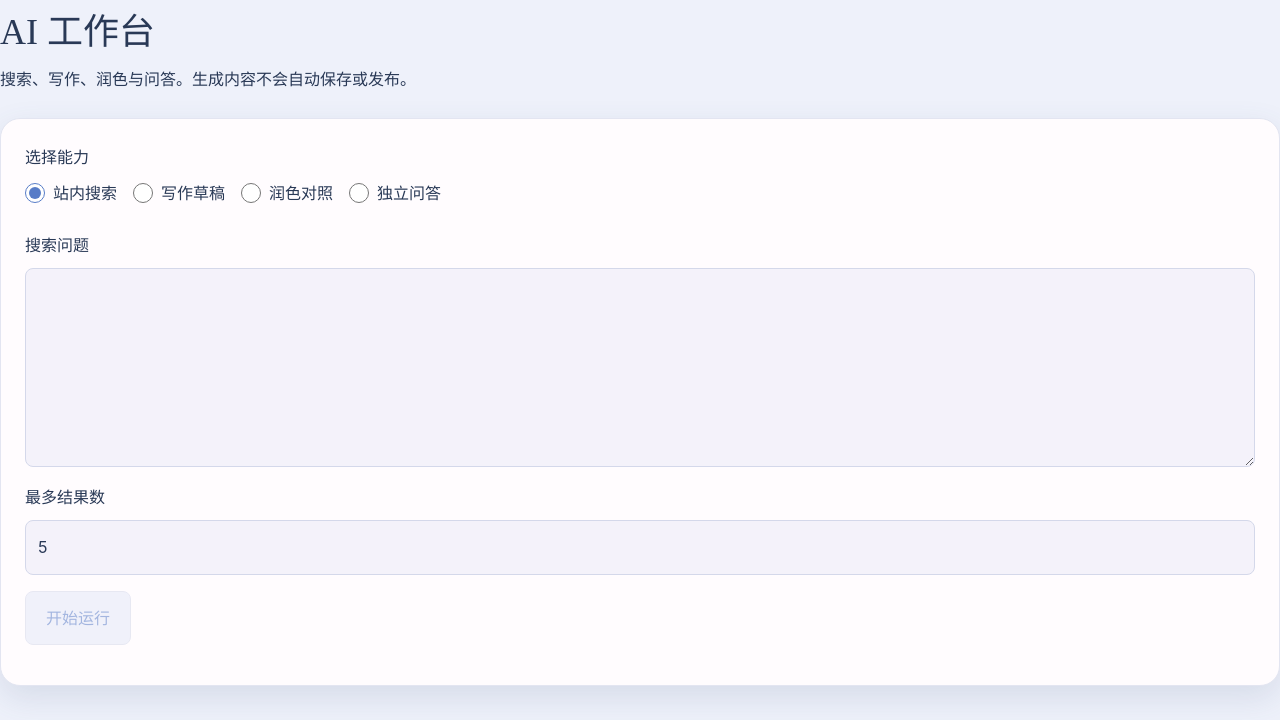
Scenario: AI workspace operation recovery › 429 keeps input, disables resubmit until deadline, and never creates automatically
The width and height of the screenshot is (1280, 720).
Type "原问题" into the text box labelled "搜索问题" at (640, 368), box [25, 268, 1255, 467]
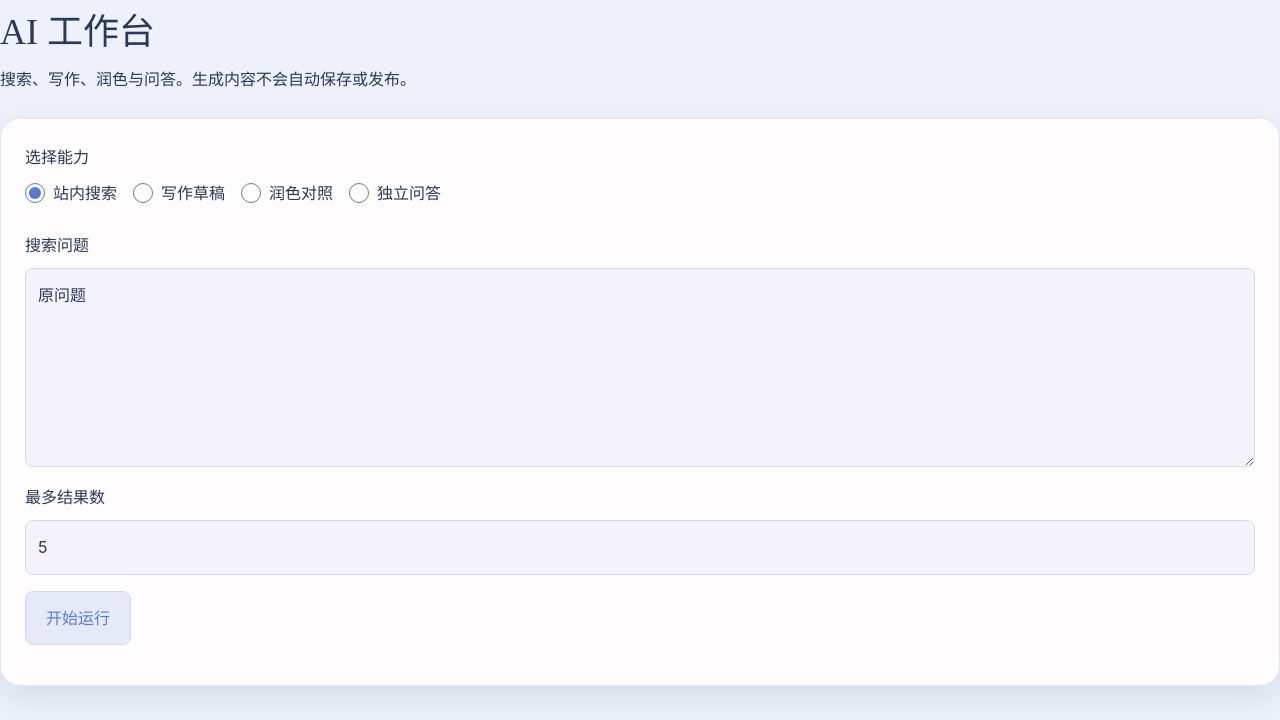
Submit the form
(page scrolled)
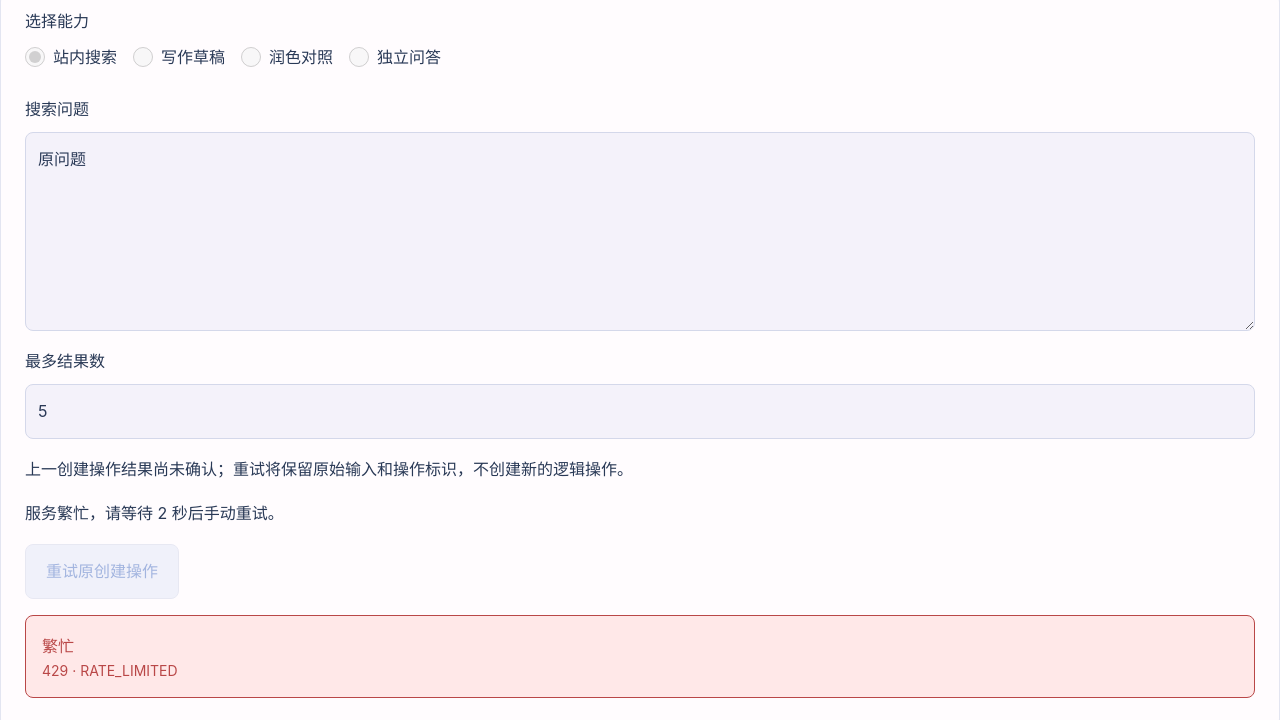
Check: the submit button is disabled, box [25, 544, 179, 599]
Submit the form
Wait 2500 ms
(page scrolled)
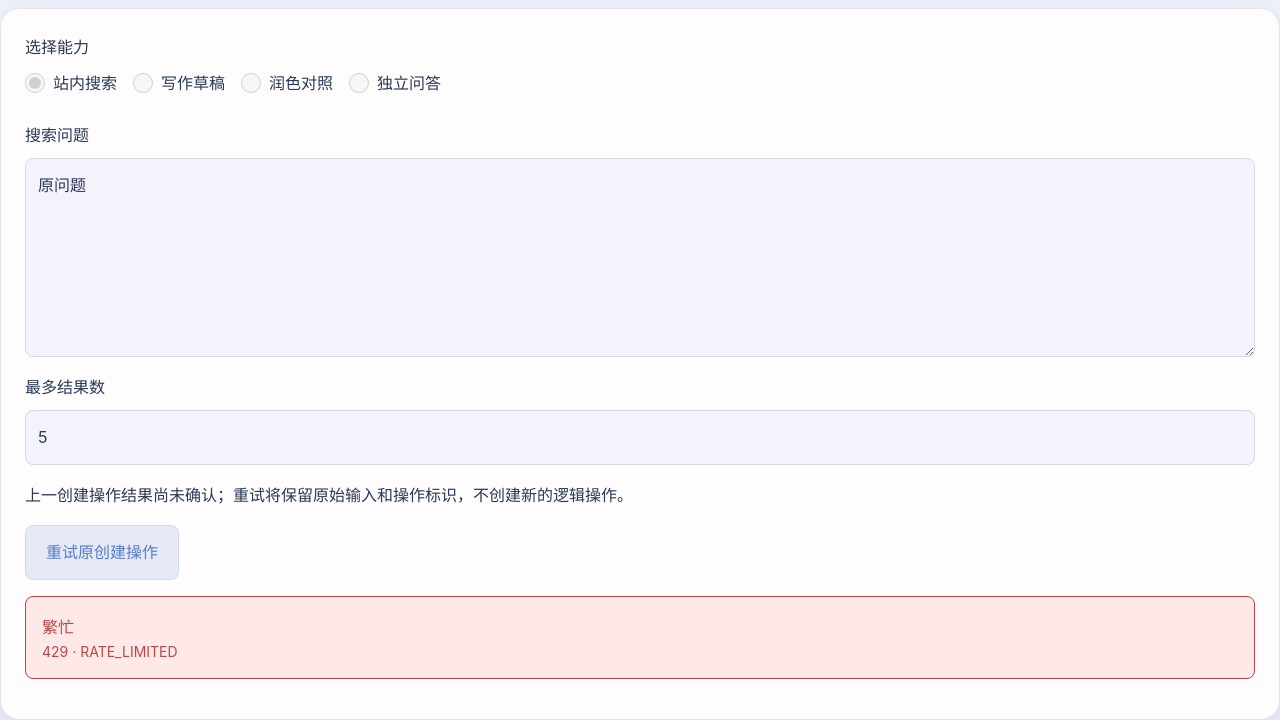
Check: the submit button is enabled, box [25, 525, 179, 580]
